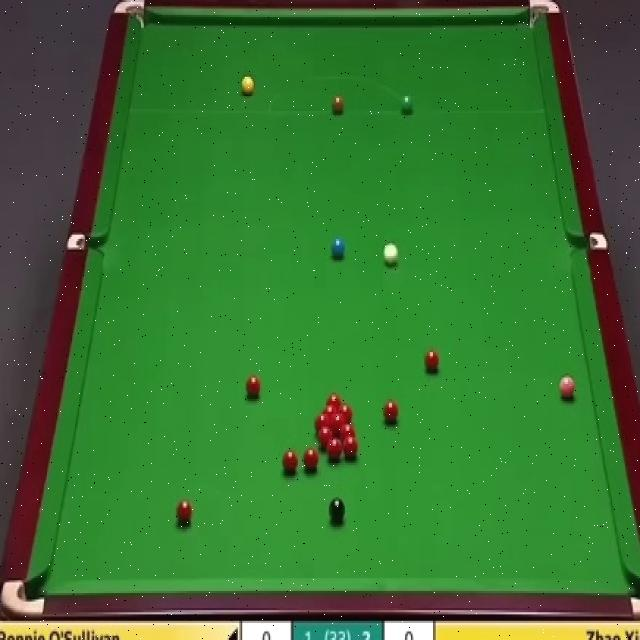black-ball: (329, 496, 345, 524)
blue-ball: (331, 237, 345, 256)
brown-ball: (331, 96, 345, 114)
green-ball: (400, 92, 414, 117)
pink-ball: (558, 374, 576, 400)
red-ball: (176, 498, 193, 527), (382, 398, 399, 426), (283, 446, 298, 474), (302, 448, 317, 475), (424, 348, 439, 374), (247, 374, 261, 401), (331, 413, 347, 436), (328, 438, 344, 460), (318, 424, 332, 448), (314, 414, 330, 432), (337, 404, 352, 423), (343, 438, 357, 458), (340, 425, 356, 441), (326, 392, 343, 404), (322, 404, 338, 416)
white-ball: (383, 242, 399, 266)
yellow-ball: (241, 75, 256, 97)
